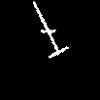double_crochet: (33, 2, 68, 57)
